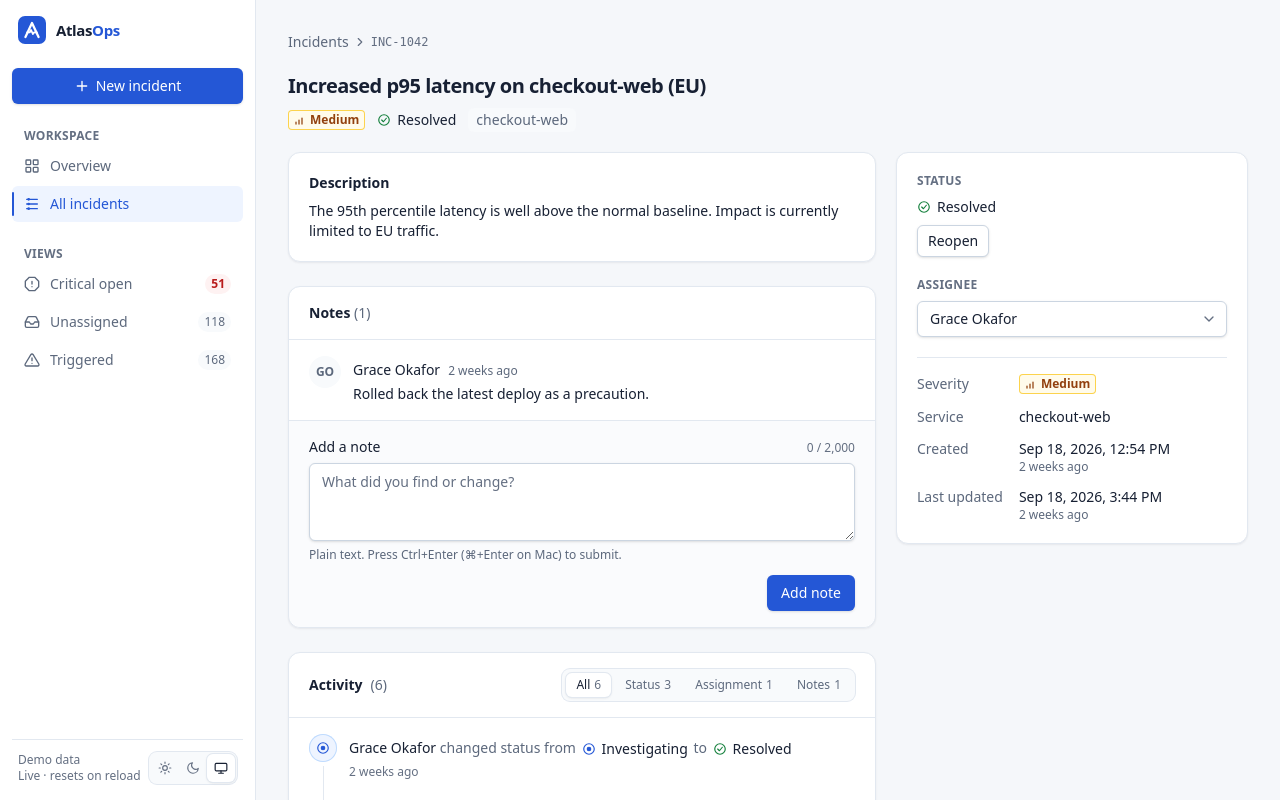
Test: Incident detail page › keeps the typed note when adding it fails
This screenshot has width=1280, height=800.
Type "Important finding" into the text box labelled "Add a note" at (582, 502), box [309,463,855,541]
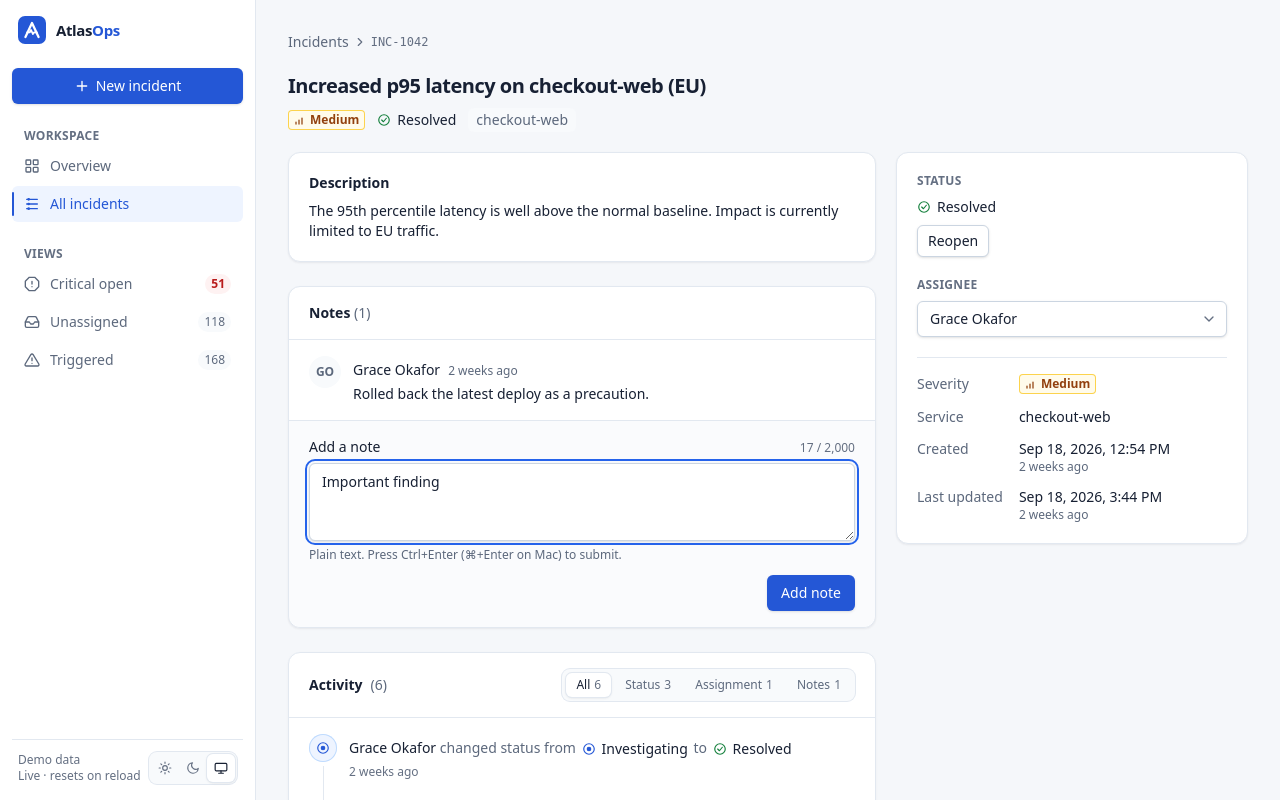
Click the button "Add note" at (811, 593), box [767,575,855,611]
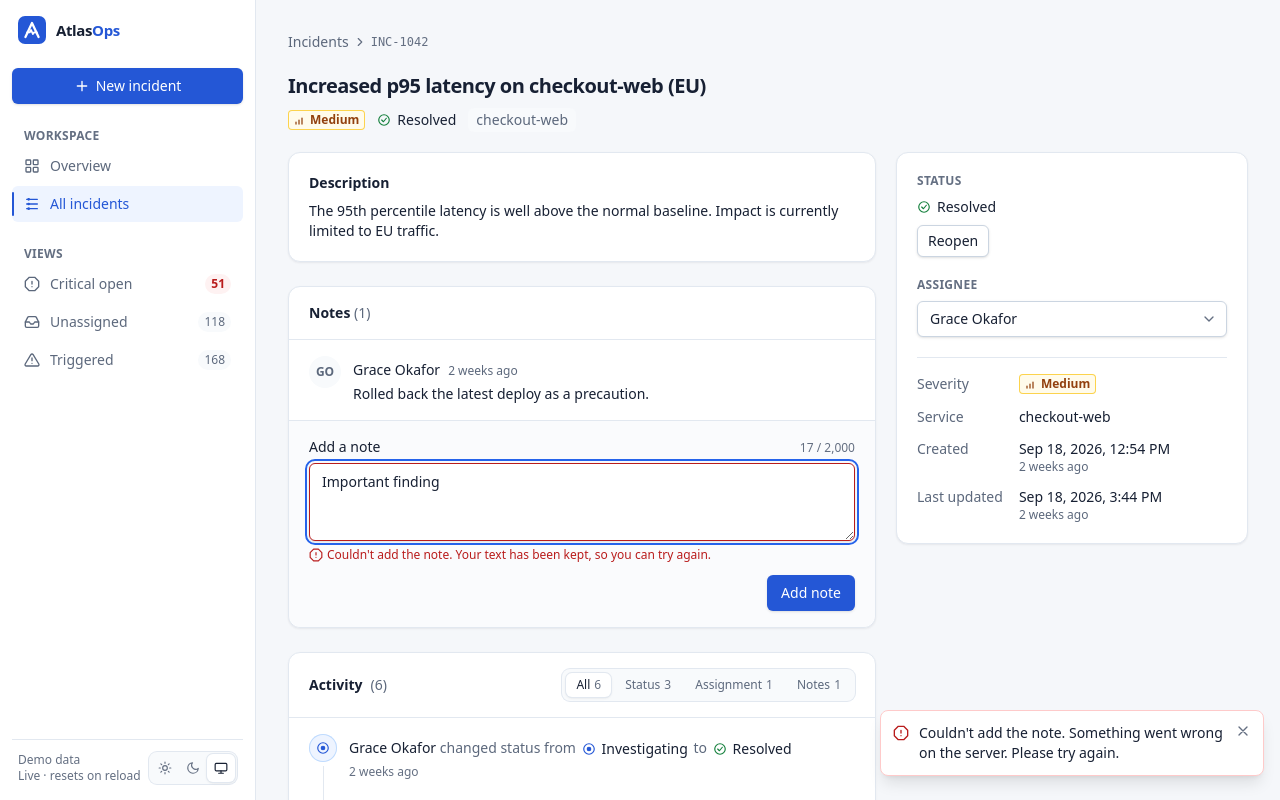
Expected: the text "Your text has been kept" is shown, [327,546,711,563]
